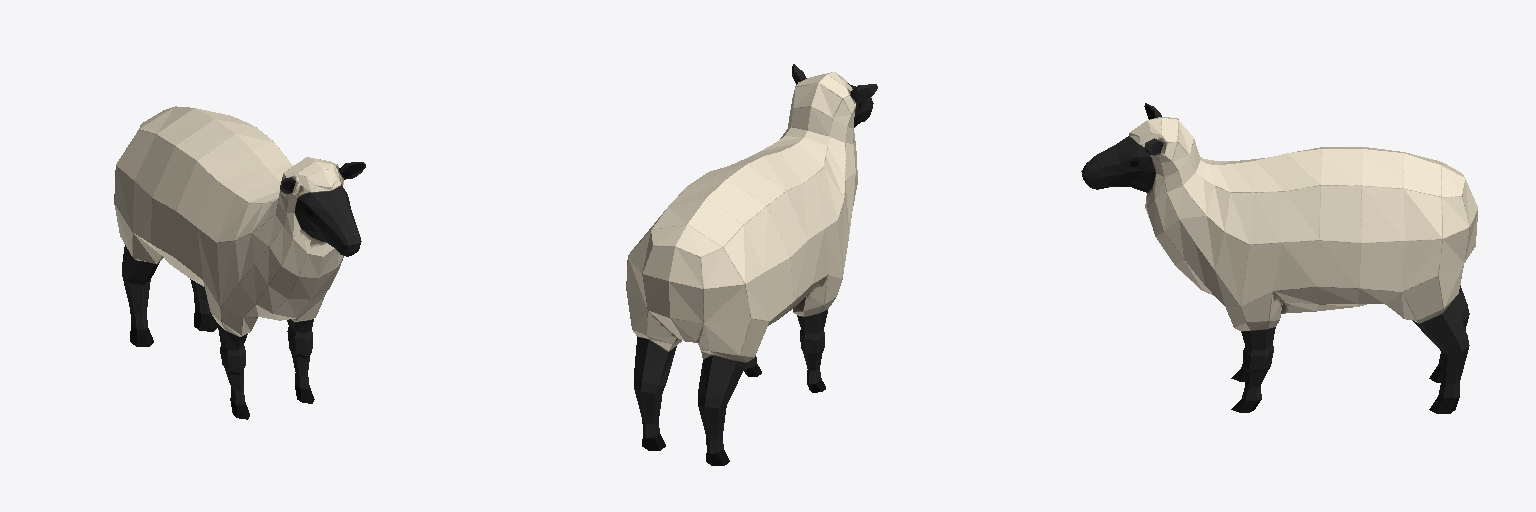
The picture shows the model from 3 angles: view 1: azimuth 30°, elevation 25°; view 2: azimuth 150°, elevation 25°; view 3: azimuth 270°, elevation 25°; orthographic projection.
Visible parts, largest first — view 1: Sheep_mesh; view 2: Sheep_mesh; view 3: Sheep_mesh.
Part boxes in pixels (bbox=[...]): Sheep_mesh: bbox=[114, 106, 365, 419]; Sheep_mesh: bbox=[626, 64, 877, 465]; Sheep_mesh: bbox=[1081, 103, 1477, 413].
Size of the model in its own units: 2.46 by 4.93 by 6.42.
1 materials, 1 textured.